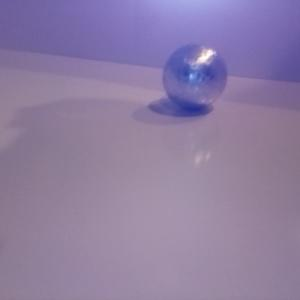alive_ball: (163, 45, 227, 109)
